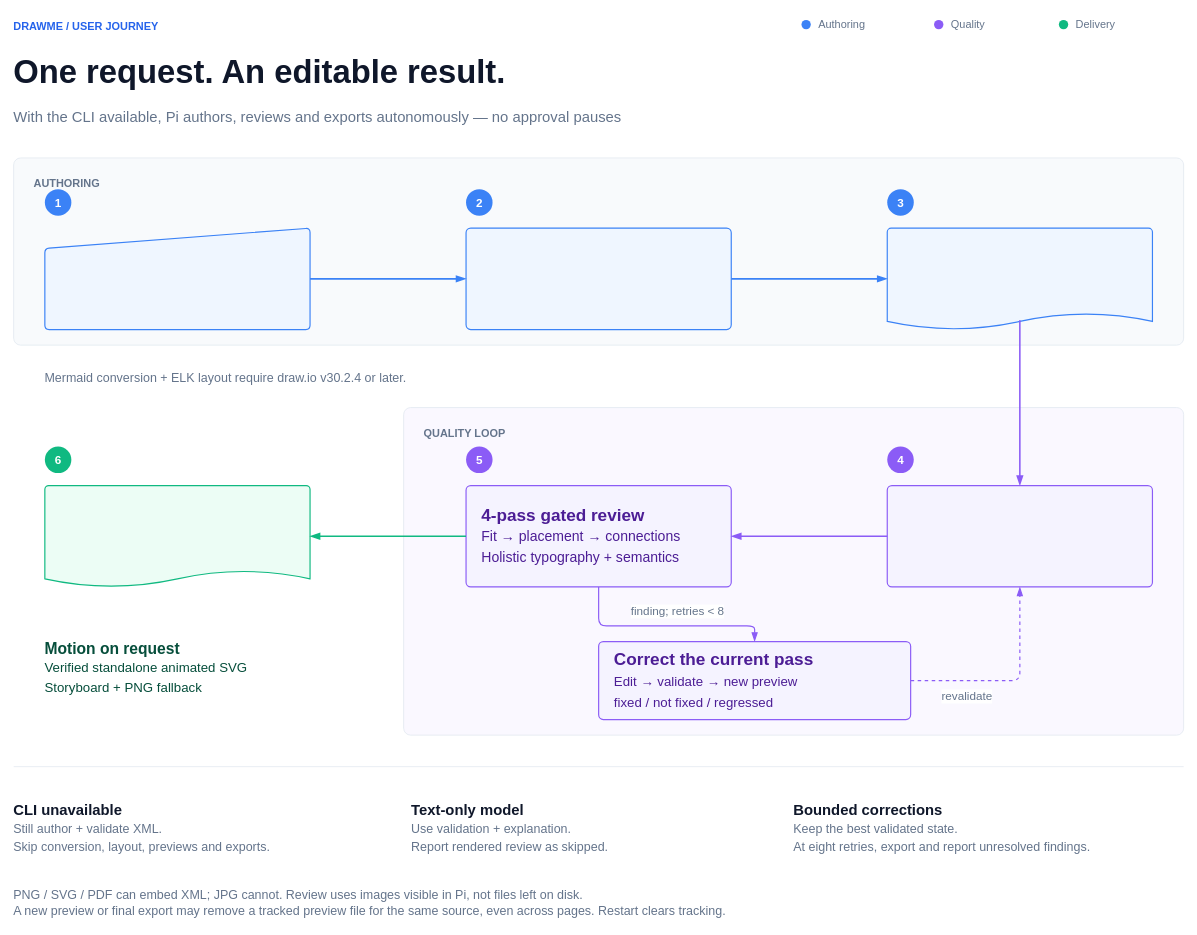
This 1197x935 diagram has some shape labels left out. The shapes that lost their labels are listed below. From the top down, each one's centre as x and y in pixels, then its label:
At point 177,278: "Describe /drawme <description> Include formats + motion".
At point 598,278: "Plan CLI + references loaded Type · relationships · layout".
At point 1019,278: "Author .drawio is the source XML · exact shapes · optional import".
At point 177,536: "Deliver PNG default · SVG / PDF / JPG Retain .drawio · report issues".
At point 1019,536: "Validate Every source revision Fix errors · review warnings".
